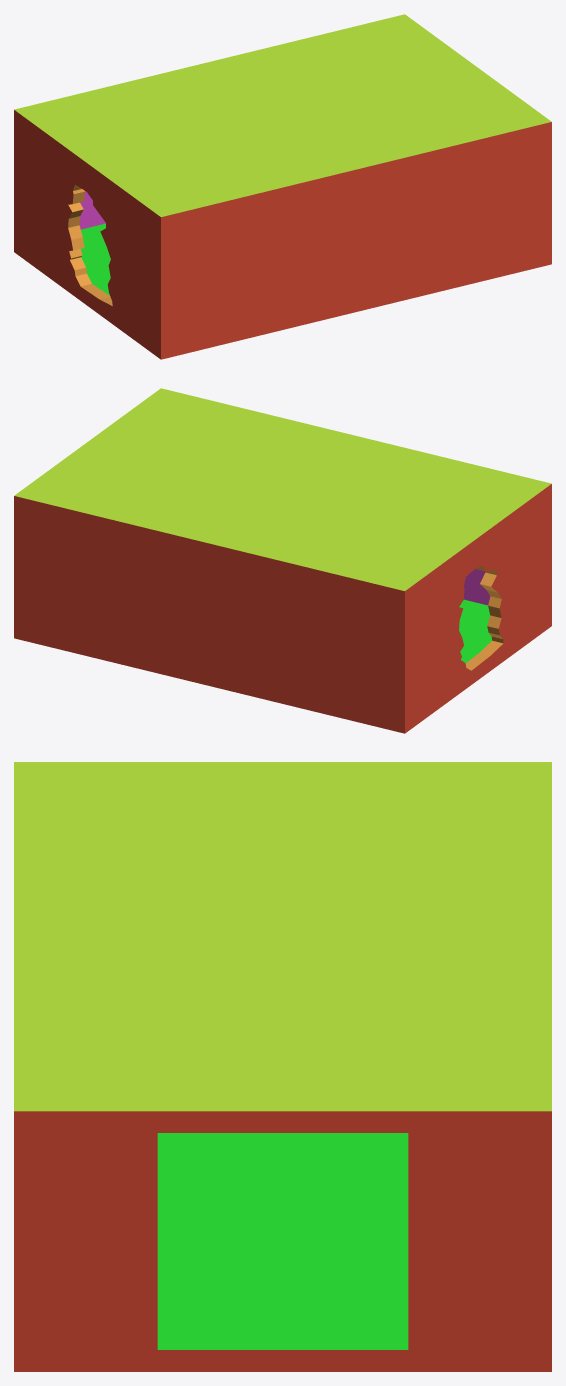
File: holeGarageNoTextMaterials.fbx
3 renders of one model, top to bottom at view 1: azimuth 30°, elevation 25°; view 2: azimuth 150°, elevation 25°; view 3: azimuth 270°, elevation 25°, orthographic. The views are drawn at different scales.
Visible parts, largest first — view 1: Куб; view 2: Куб; view 3: Куб.
Boxes of the visible parts, x1,y1,x2,y2 form: Куб: (14, 14, 551, 359); Куб: (14, 388, 551, 733); Куб: (14, 762, 551, 1371).
Bounding box in the file's own units: 690 × 240 × 450.
